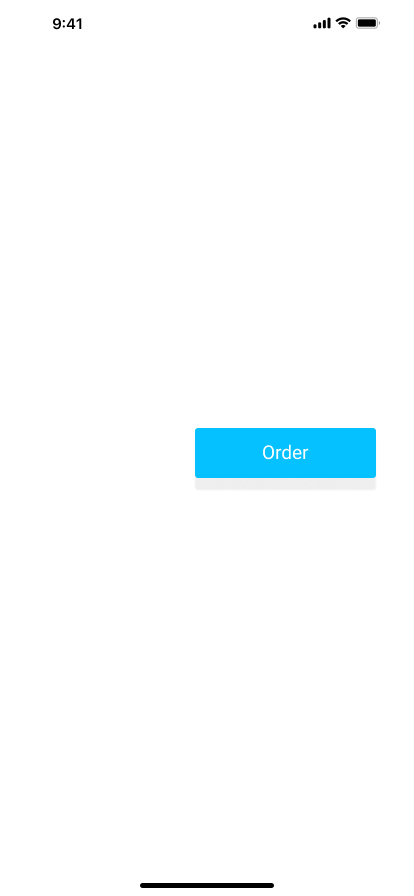Buttons: (193, 428, 378, 492)
Home Indicator: (0, 862, 414, 896)
Status Bar: (0, 0, 414, 44)
